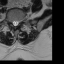CCS_normal: (14, 18, 16, 28)
LFS_normal: (18, 17, 21, 25)
LLS_normal: (16, 18, 18, 27)
RFS_stenosis: (9, 18, 12, 25)
RLS_normal: (12, 18, 14, 27)
